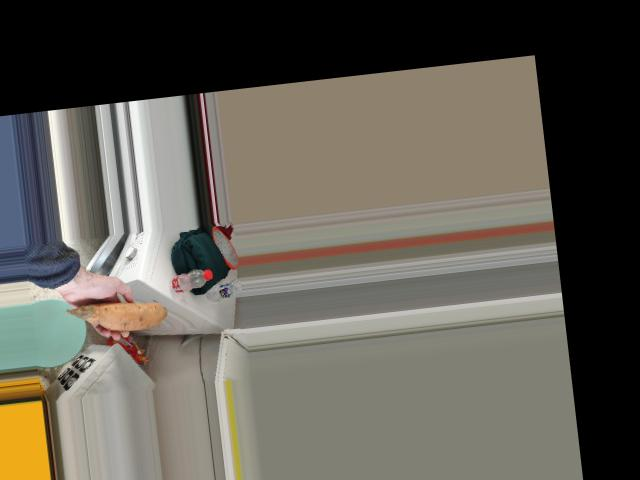sweet_potato: (80, 296, 167, 338)
